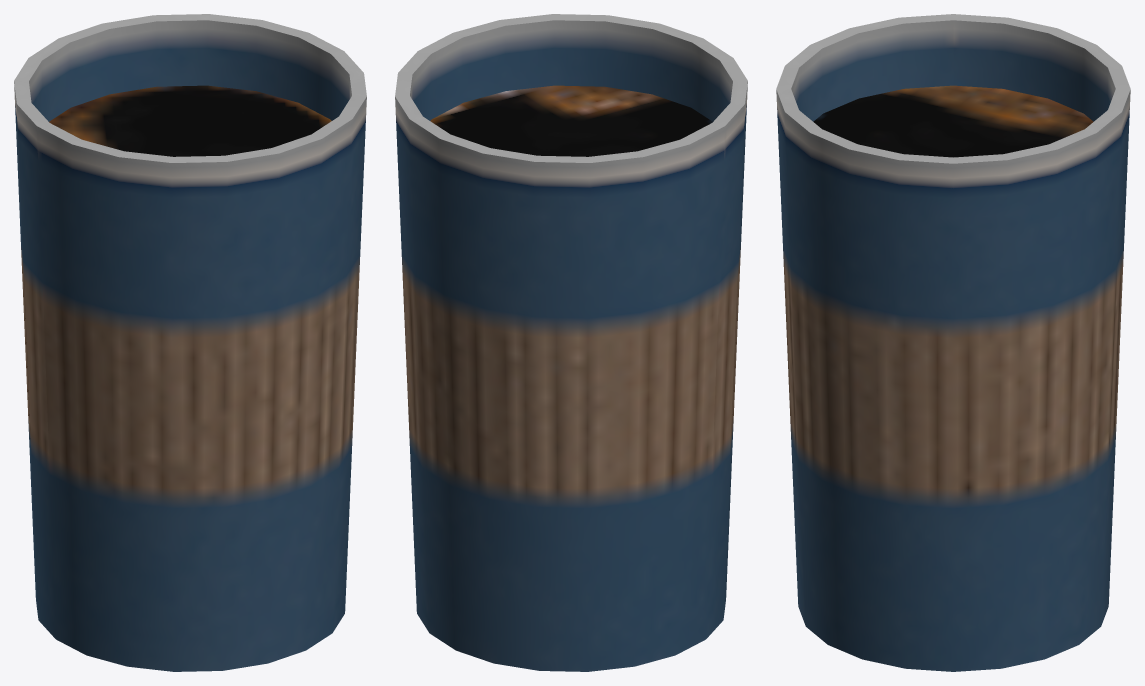
File: HH_Cup_Cardboard_01.fbx
3 views of the same model, side by side, from view 1: azimuth 30°, elevation 25°; view 2: azimuth 150°, elevation 25°; view 3: azimuth 270°, elevation 25° (orthographic).
Parts seen in each view (by area): view 1: HH_Cup_Cardboard_01_LOD0; view 2: HH_Cup_Cardboard_01_LOD0; view 3: HH_Cup_Cardboard_01_LOD0.
Boxes of the visible parts, left/top/right/bottom form: HH_Cup_Cardboard_01_LOD0: left=14, top=14, right=366, bottom=671; HH_Cup_Cardboard_01_LOD0: left=395, top=14, right=747, bottom=671; HH_Cup_Cardboard_01_LOD0: left=776, top=14, right=1130, bottom=671.
Size of what is drawn, in the model's own units: 8.86 by 14.27 by 8.86.
